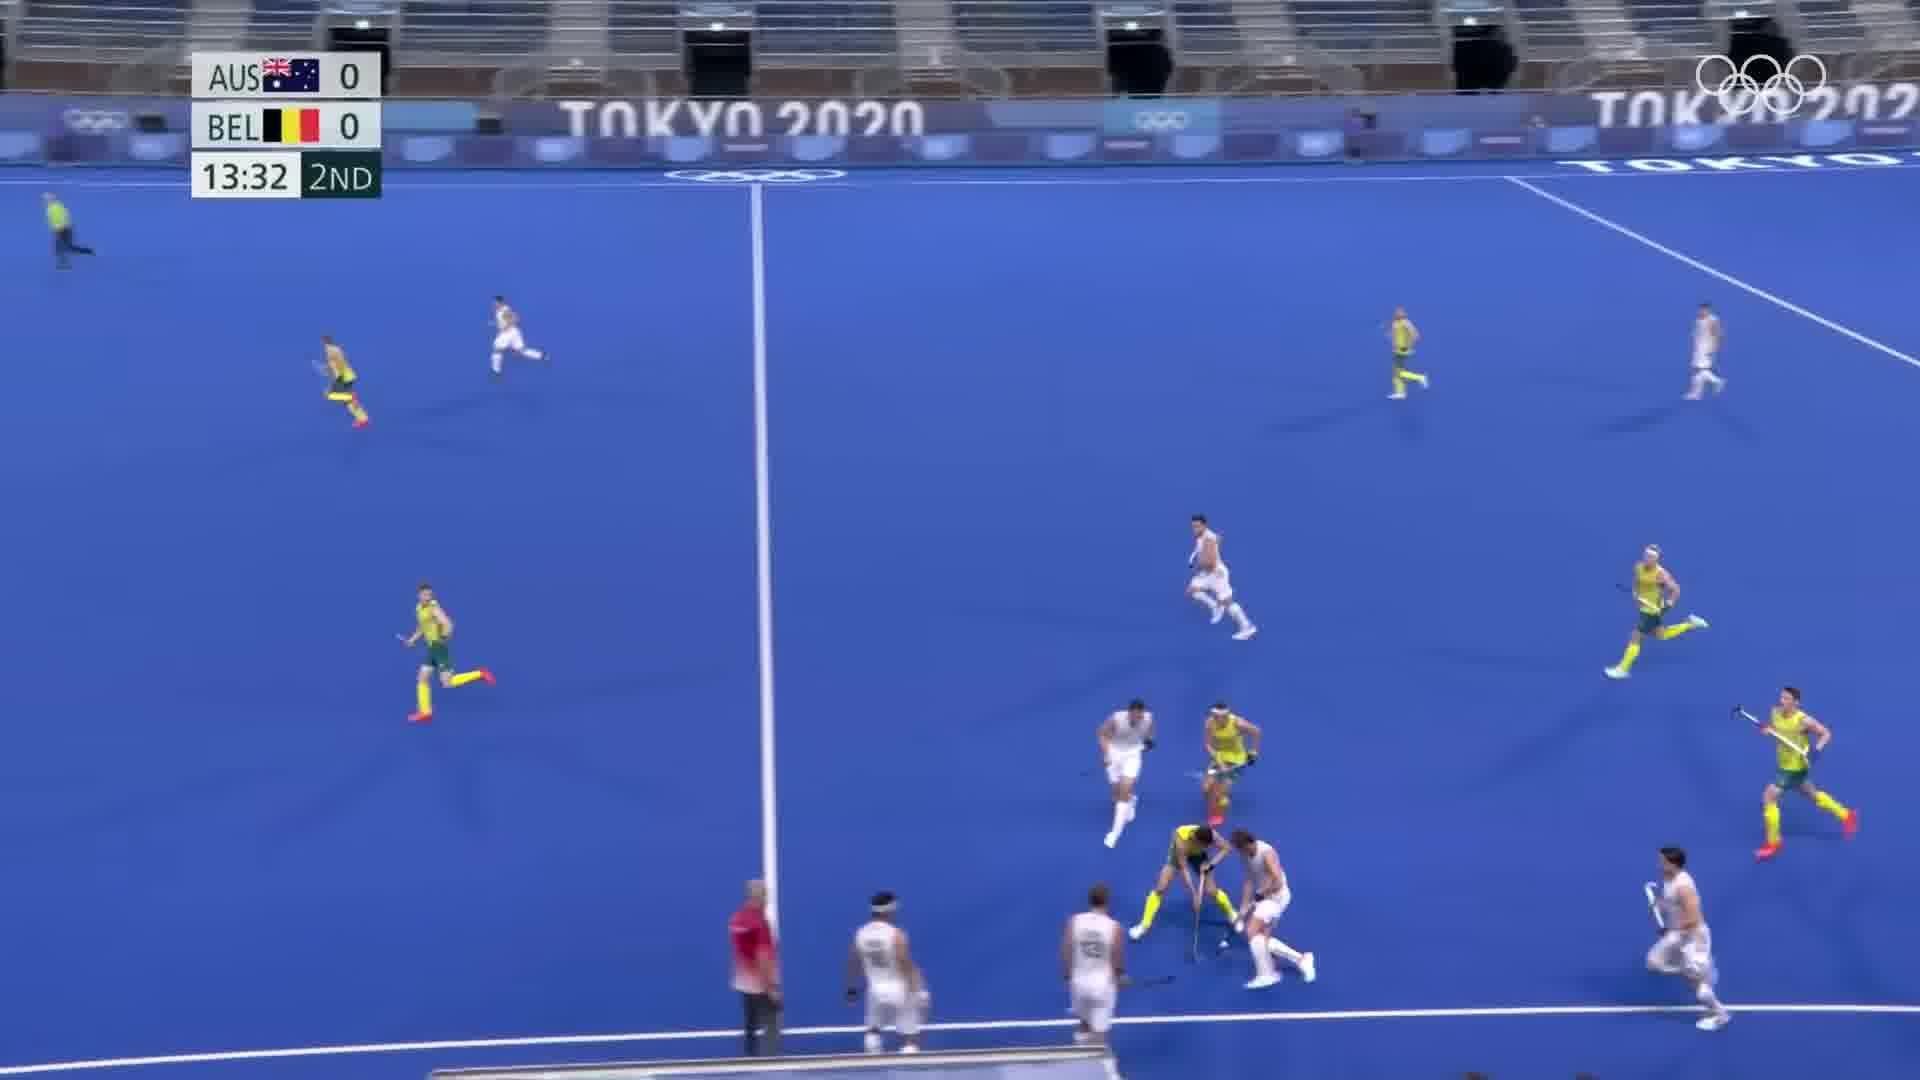ball: (1211, 933, 1234, 962)
